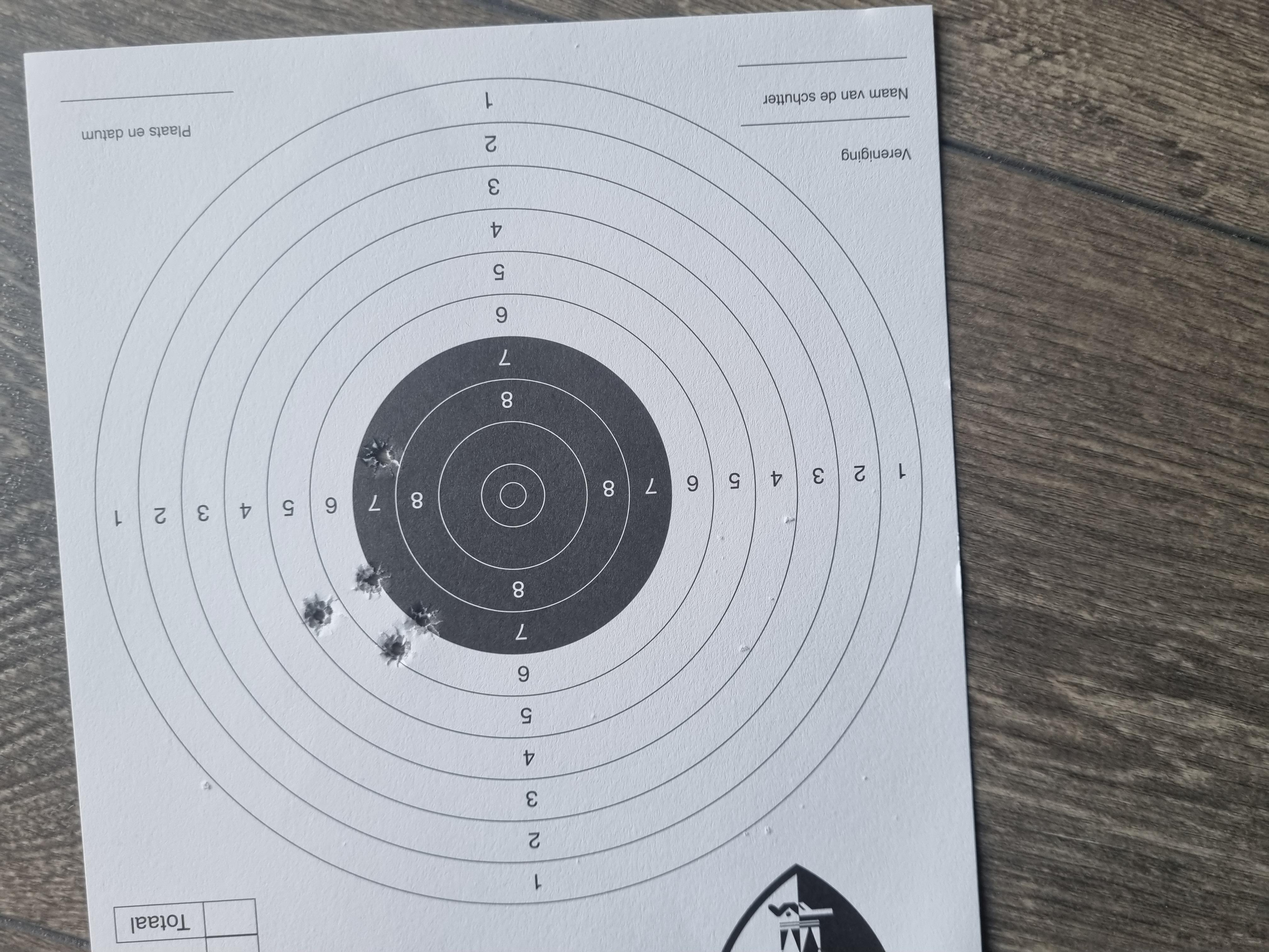hole: (421, 221, 485, 256), (378, 279, 432, 313), (637, 267, 689, 300), (470, 261, 517, 297), (416, 301, 469, 331)
